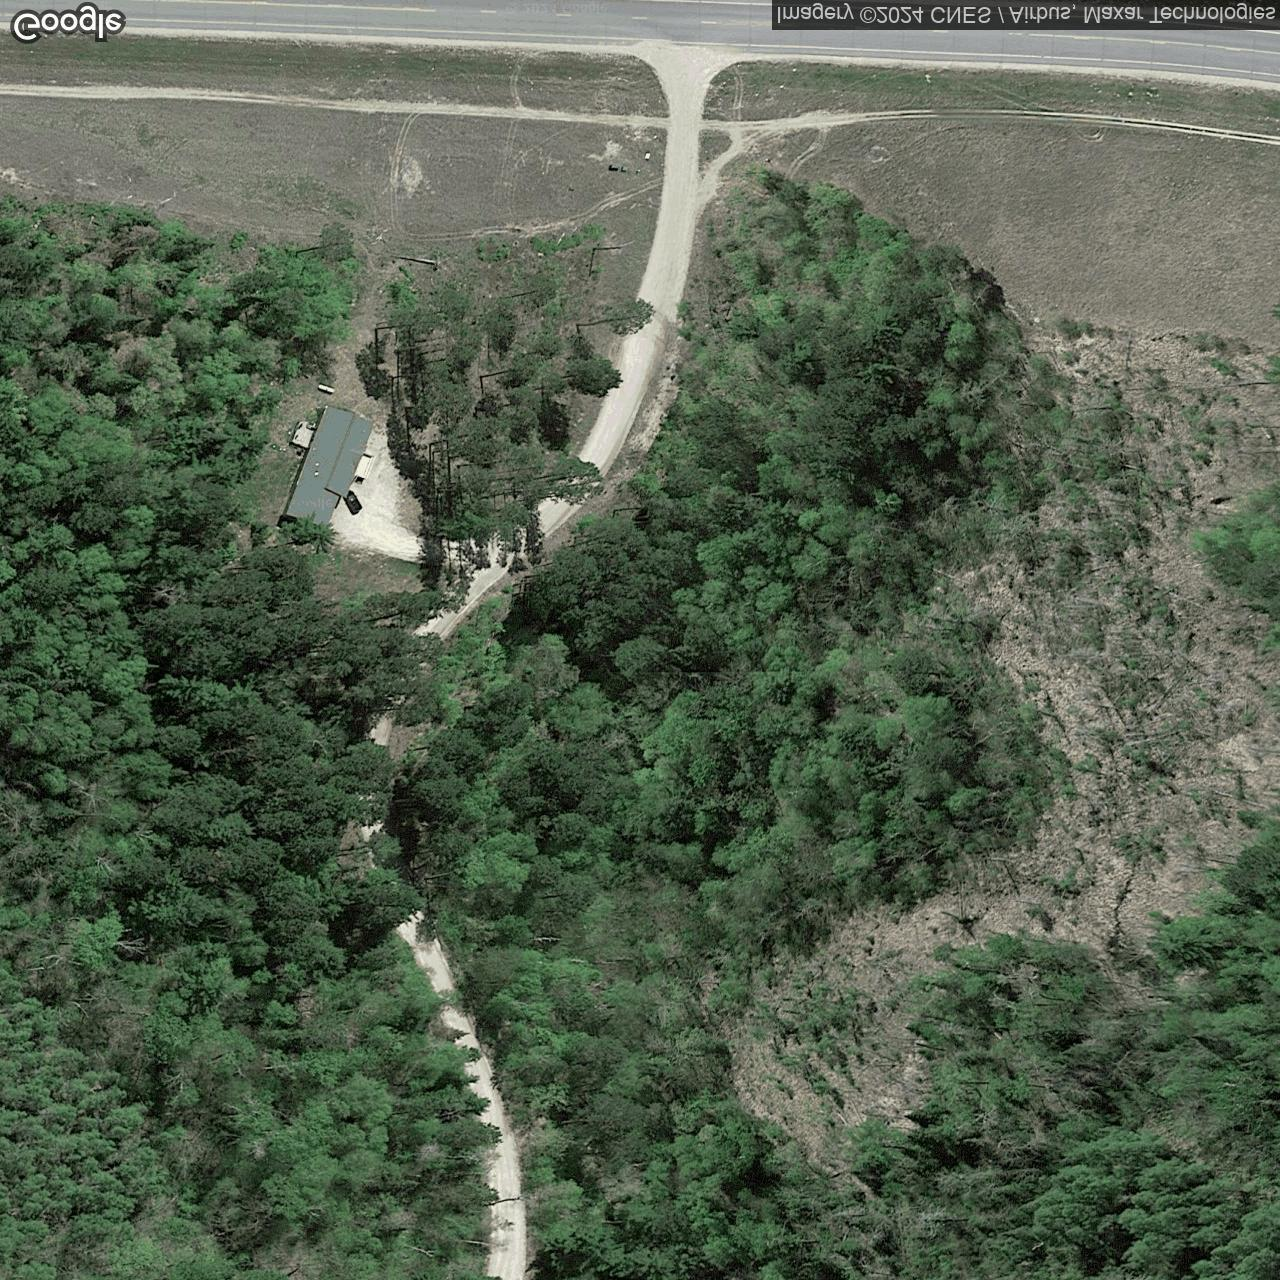House: (284, 403, 376, 530)
Propane: (315, 382, 338, 396)
